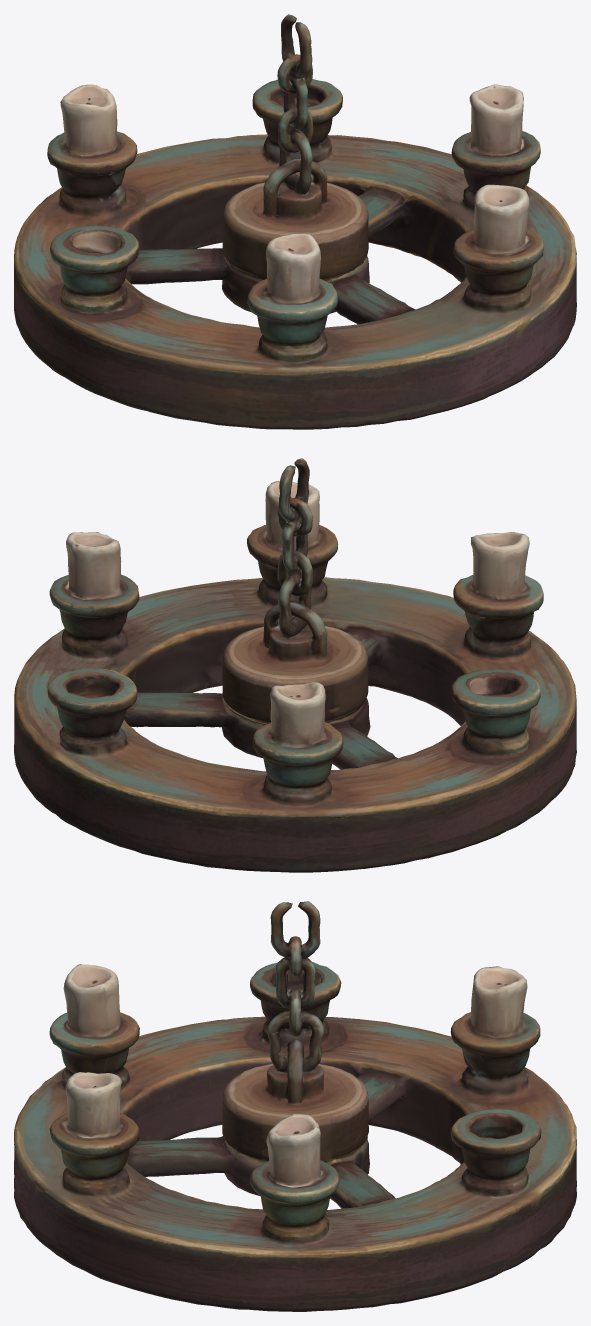
The model's file is Prop_Chandelier.fbx.
The picture shows the model from 3 angles, top to bottom: view 1: azimuth 30°, elevation 25°; view 2: azimuth 150°, elevation 25°; view 3: azimuth 270°, elevation 25°; orthographic projection.
Visible parts, largest first — view 1: texture_mapping; view 2: texture_mapping; view 3: texture_mapping.
Boxes of the visible parts, <box> form: texture_mapping: <box>14,14,576,429</box>; texture_mapping: <box>14,458,576,872</box>; texture_mapping: <box>14,901,576,1311</box>.
Size of the model in its own units: 1 by 1 by 0.5784.
Materials: 1 (1 with a texture image).
